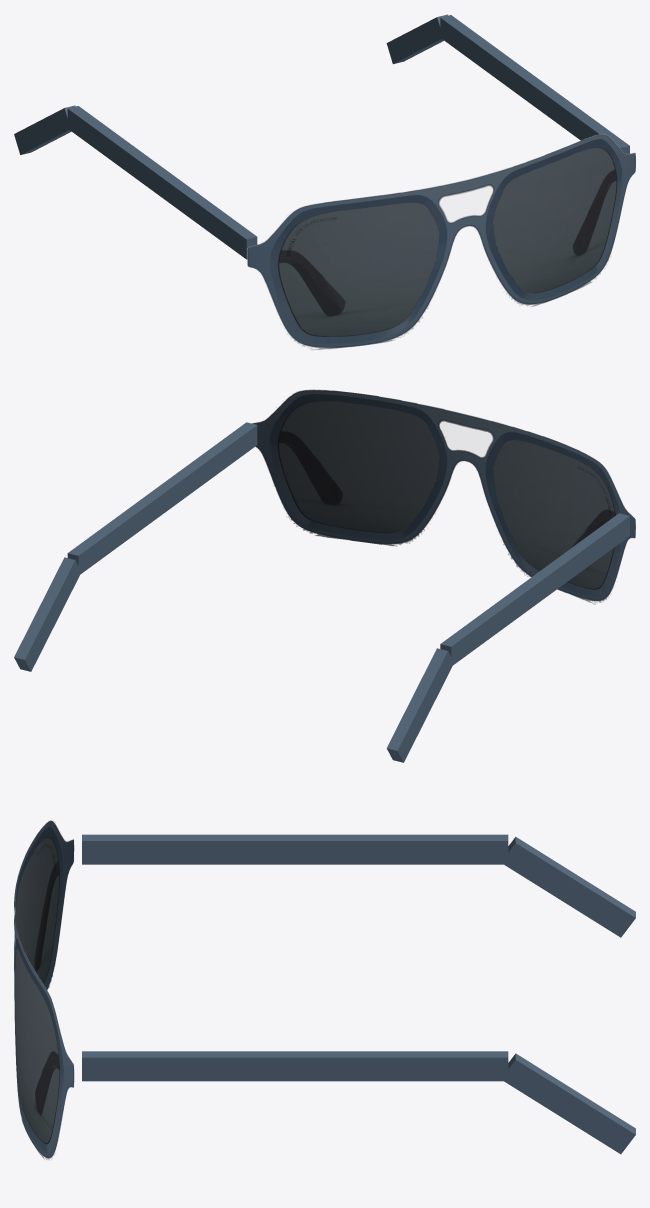
3 renders of one model, top to bottom at view 1: azimuth 30°, elevation 25°; view 2: azimuth 150°, elevation 25°; view 3: azimuth 270°, elevation 25°, orthographic. The views are drawn at different scales.
Visible parts, largest first — view 1: anteojo; view 2: anteojo; view 3: anteojo.
Boxes of the visible parts, x1,y1,x2,y2 form: anteojo: (14, 14, 635, 350); anteojo: (14, 389, 635, 762); anteojo: (14, 820, 635, 1160).
Size of the model in its own units: 0.142 by 0.0517 by 0.165.
Materials: 2 (1 with a texture image).
